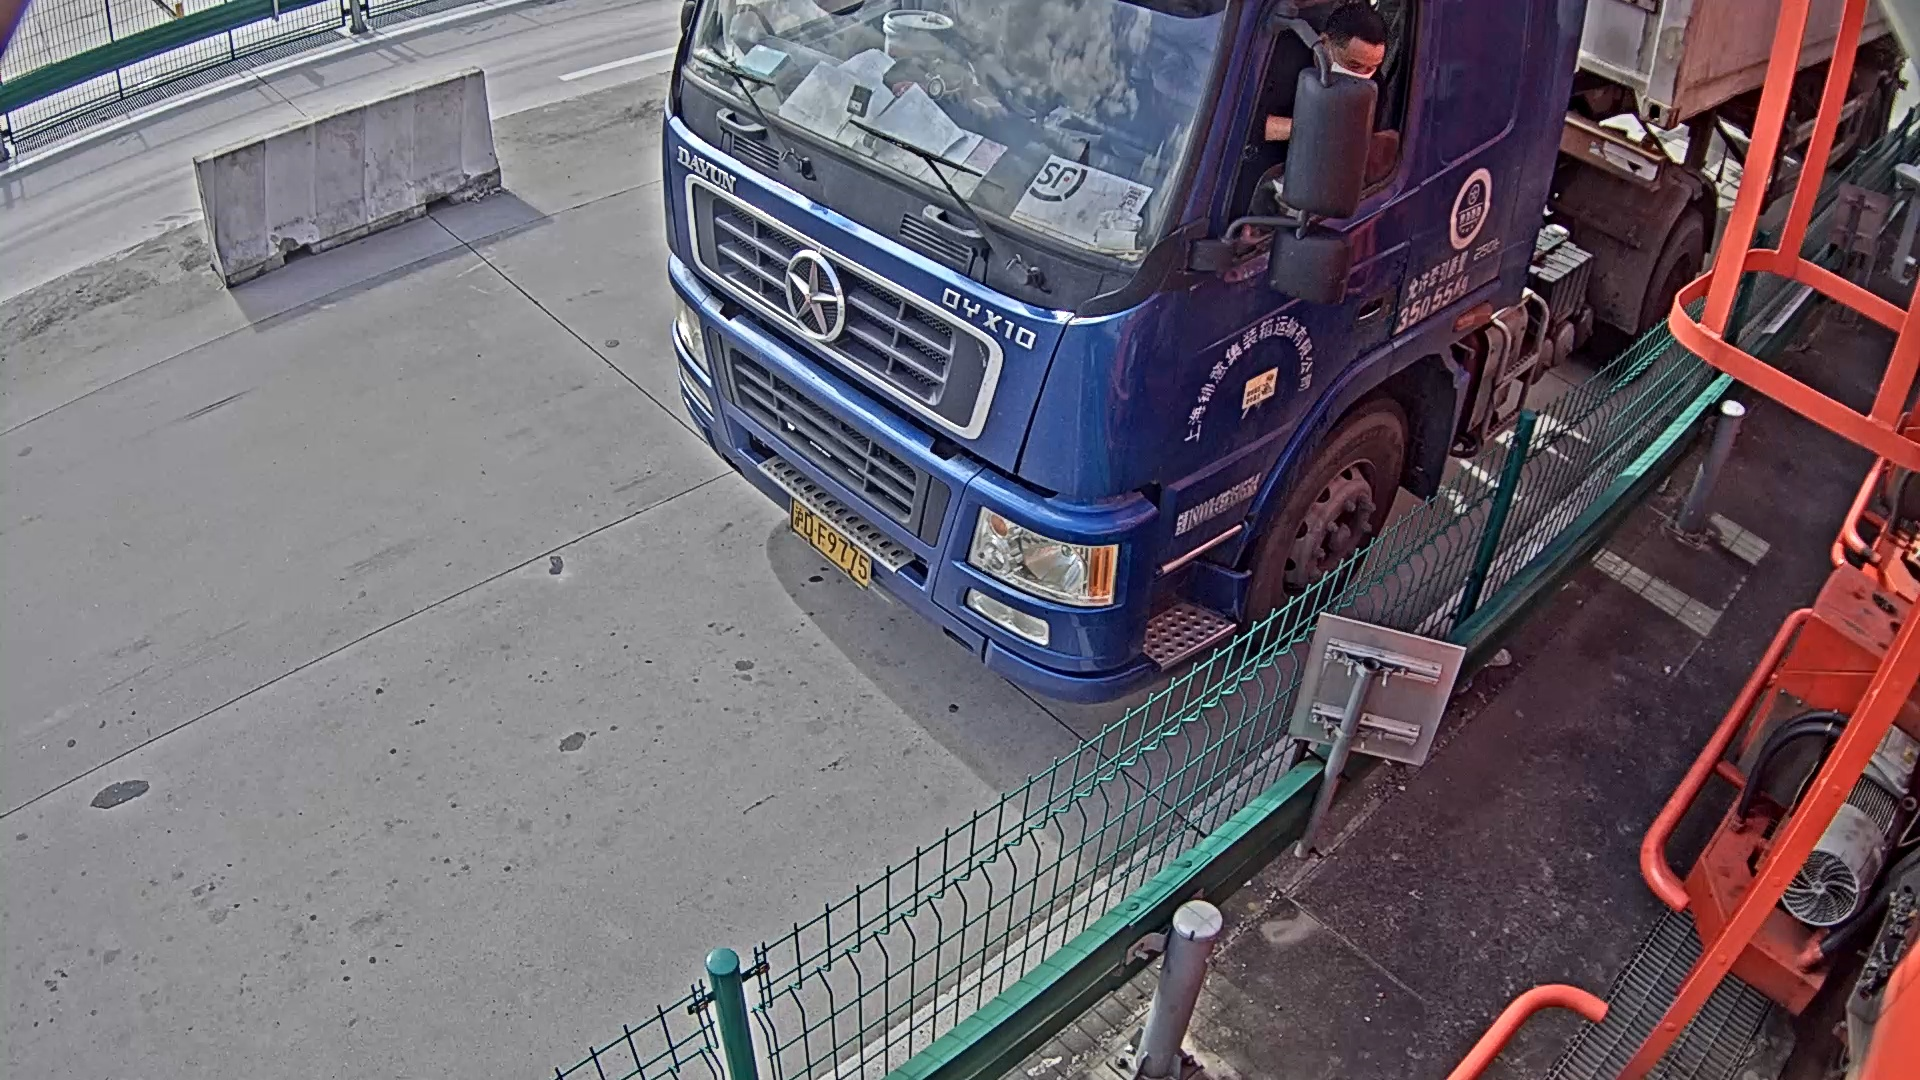head: (654, 1, 1585, 681)
plate: (786, 499, 872, 588)
